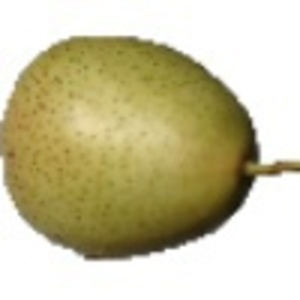pera: (1, 23, 300, 263)
